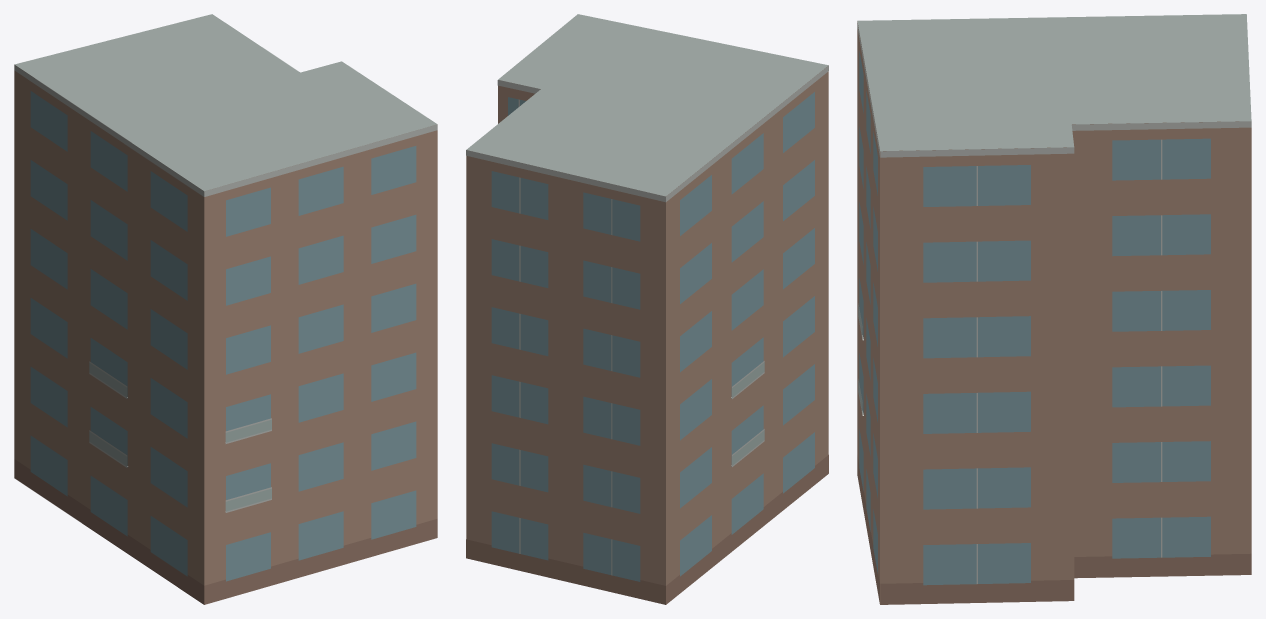
Rendered from survey-upis-32892437.glb.
The picture shows the model from 3 angles, left to right: view 1: azimuth 30°, elevation 25°; view 2: azimuth 150°, elevation 25°; view 3: azimuth 270°, elevation 25°; orthographic projection. The views are drawn at different scales.
Parts seen in each view (by area): view 1: survey-upis-32892437.tmp; view 2: survey-upis-32892437.tmp; view 3: survey-upis-32892437.tmp.
Part boxes in pixels (box(x1,y1,x2,y2)): survey-upis-32892437.tmp: box(14, 14, 437, 604); survey-upis-32892437.tmp: box(466, 14, 828, 604); survey-upis-32892437.tmp: box(857, 14, 1251, 604).
Bounding box in the file's own units: 11.16 × 17.2 × 13.55.
